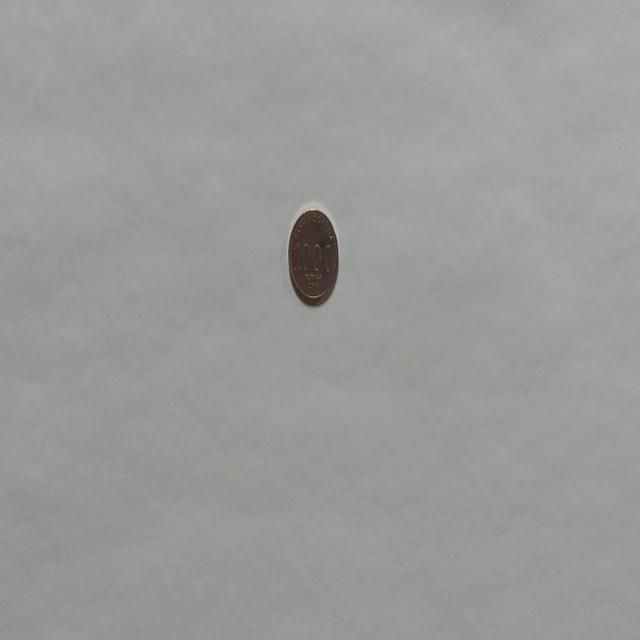seribu rupiah koin: (286, 204, 340, 306)
